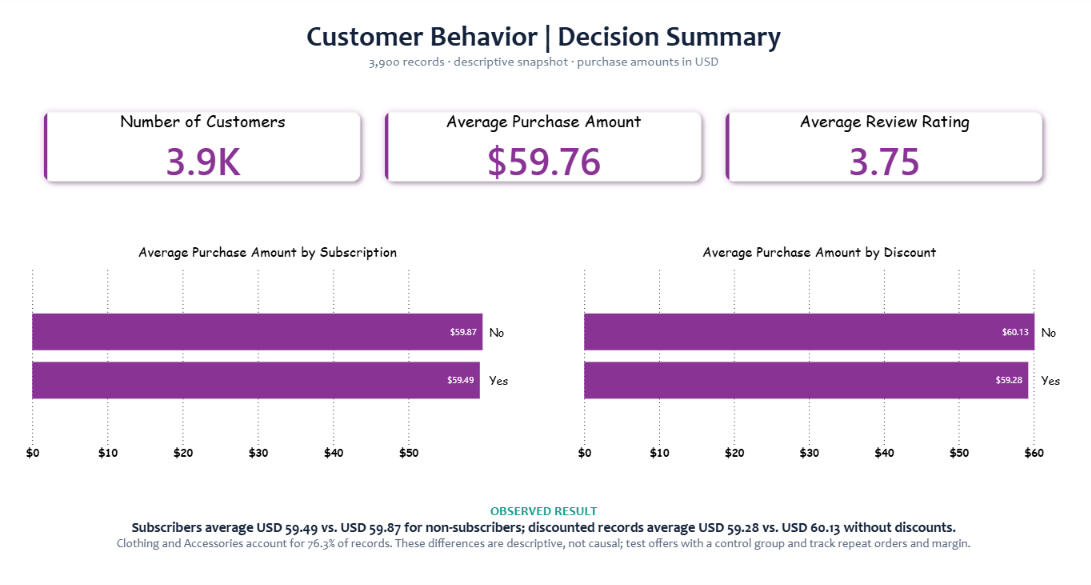

The page's visual inventory and layout, read from the dashboard file:
{"tool":"powerbi","page":{"name":"Decision Summary","canvas":[1500,820],"ordinal":1},"visuals":[{"type":"textbox","box":[50,25,1400,80],"z":1000},{"type":"cardVisual","fields":{"Data":["Sheet1.Number of Customers","Sheet1.Average Purchase Amount","Sheet1.Average Review Rating"]},"box":[60,125,1380,150],"z":2000},{"type":"clusteredBarChart","title":"Average Purchase Amount by Subscription","fields":{"Category":["Sheet1.subscription_status"],"Y":["Sheet1.Average Purchase Amount"]},"box":[60,325,650,300],"z":3000},{"type":"clusteredBarChart","title":"Average Purchase Amount by Discount","fields":{"Category":["Sheet1.discount_applied"],"Y":["Sheet1.Average Purchase Amount"]},"box":[790,325,650,300],"z":4000},{"type":"textbox","box":[70,665,1360,115],"z":5000}]}

Visuals, with their boxes in screenshot pixels (x1, y1, x2, y2), scaled from the page's 1500x820 canvas onto the 1091x585 screenshot:
textbox: select_region(36, 18, 1055, 75)
cardVisual - Sheet1.Number of Customers x Sheet1.Average Purchase Amount: select_region(44, 89, 1047, 196)
"Average Purchase Amount by Subscription" clusteredBarChart: select_region(44, 232, 516, 446)
"Average Purchase Amount by Discount" clusteredBarChart: select_region(575, 232, 1047, 446)
textbox: select_region(51, 474, 1040, 556)
